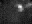person: (16, 4, 24, 12), (27, 2, 32, 7)
